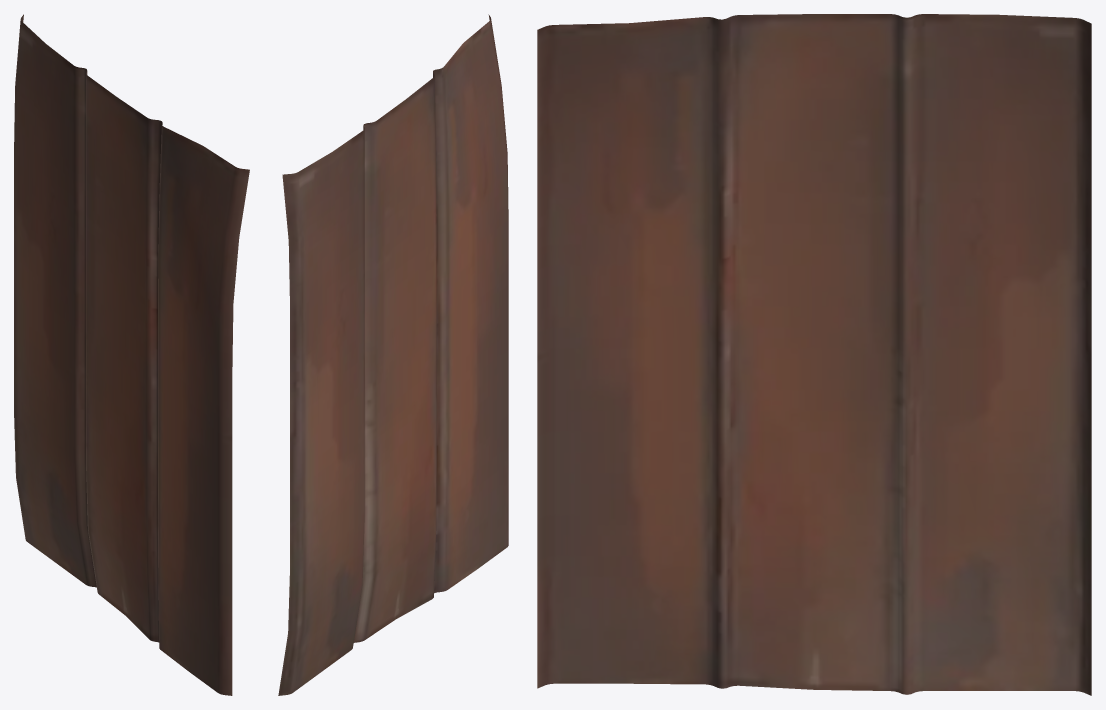
3 views of the same model, side by side, from view 1: azimuth 30°, elevation 25°; view 2: azimuth 150°, elevation 25°; view 3: azimuth 270°, elevation 25° (orthographic). The views are drawn at different scales.
Visible parts, largest first — view 1: body0_model0_lod0_mesh0; view 2: body0_model0_lod0_mesh0; view 3: body0_model0_lod0_mesh0.
Part boxes in pixels (x1=…): body0_model0_lod0_mesh0: x1=14, y1=14, x2=249, y2=695; body0_model0_lod0_mesh0: x1=278, y1=14, x2=508, y2=695; body0_model0_lod0_mesh0: x1=537, y1=14, x2=1091, y2=695.
Size of the model in its own units: 6.5 by 128 by 96.
1 material, 1 textured.
